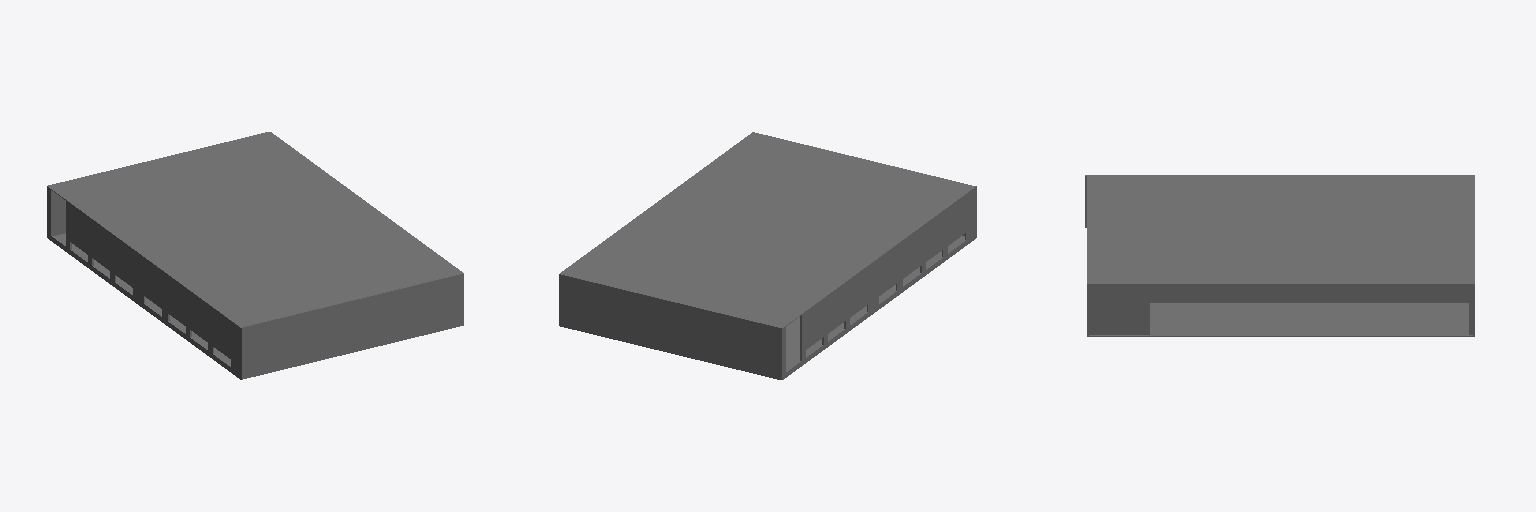
Rendered from environment.obj.
3 views of the same model, side by side, from view 1: azimuth 30°, elevation 25°; view 2: azimuth 150°, elevation 25°; view 3: azimuth 270°, elevation 25° (orthographic).
Visible parts, largest first — view 1: polySurface348; view 2: polySurface348; view 3: polySurface348.
Part boxes in pixels (bbox=[...]): polySurface348: bbox=[47, 132, 463, 379]; polySurface348: bbox=[559, 132, 976, 379]; polySurface348: bbox=[1085, 175, 1474, 336].
Bounding box in the file's own units: 1909 × 426 × 2887.